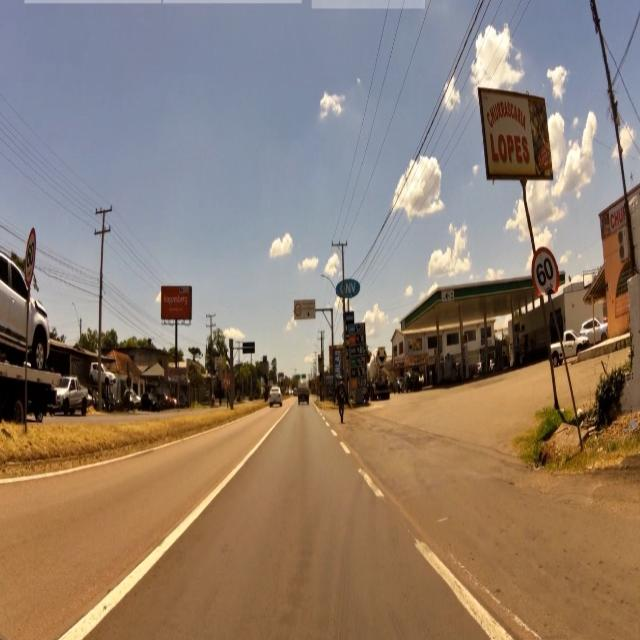R-19: (530, 246, 560, 300)
